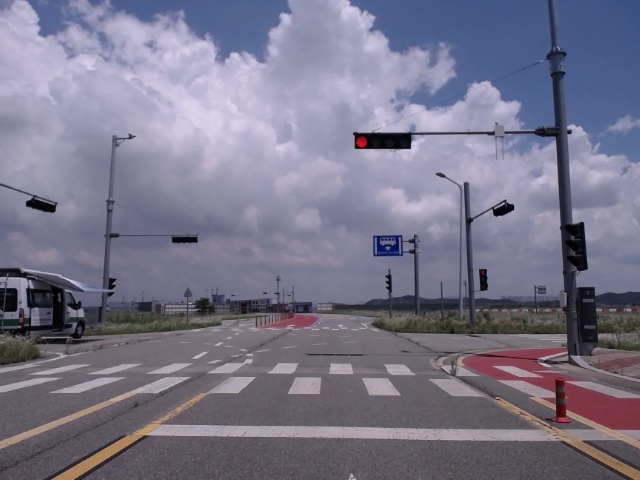red_4: (355, 135, 411, 149)
